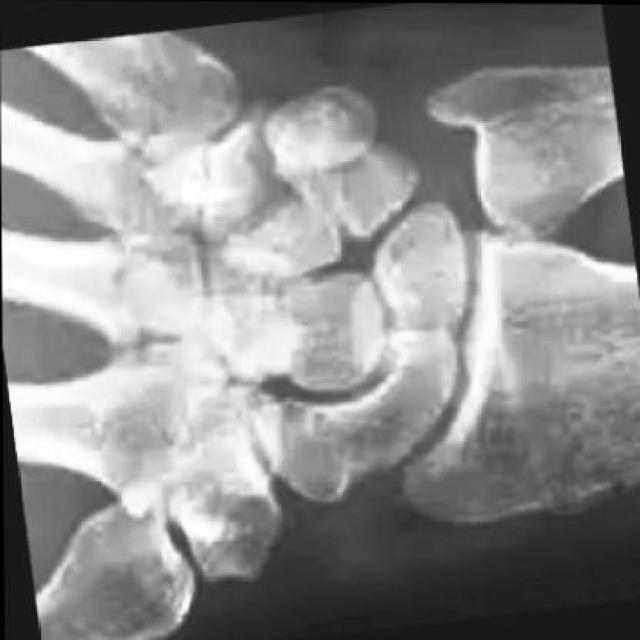Fracture: (129, 92, 275, 224)
